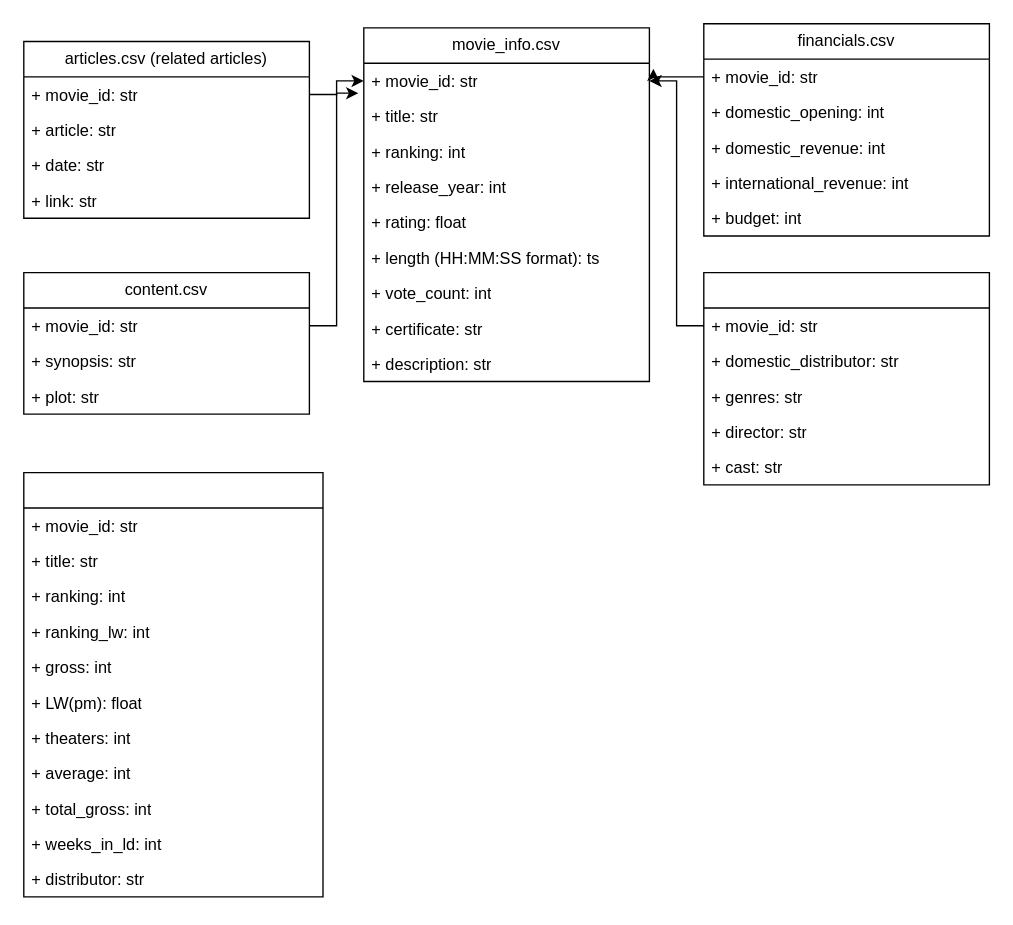
Some shapes in this 1013 by 925 pixel diagram are drawn without their labels. Each missing label, with the box of its shape:
production.csv: (702, 271, 989, 485)
weekly_leaderboard (upload to cloud): (22, 471, 323, 897)
